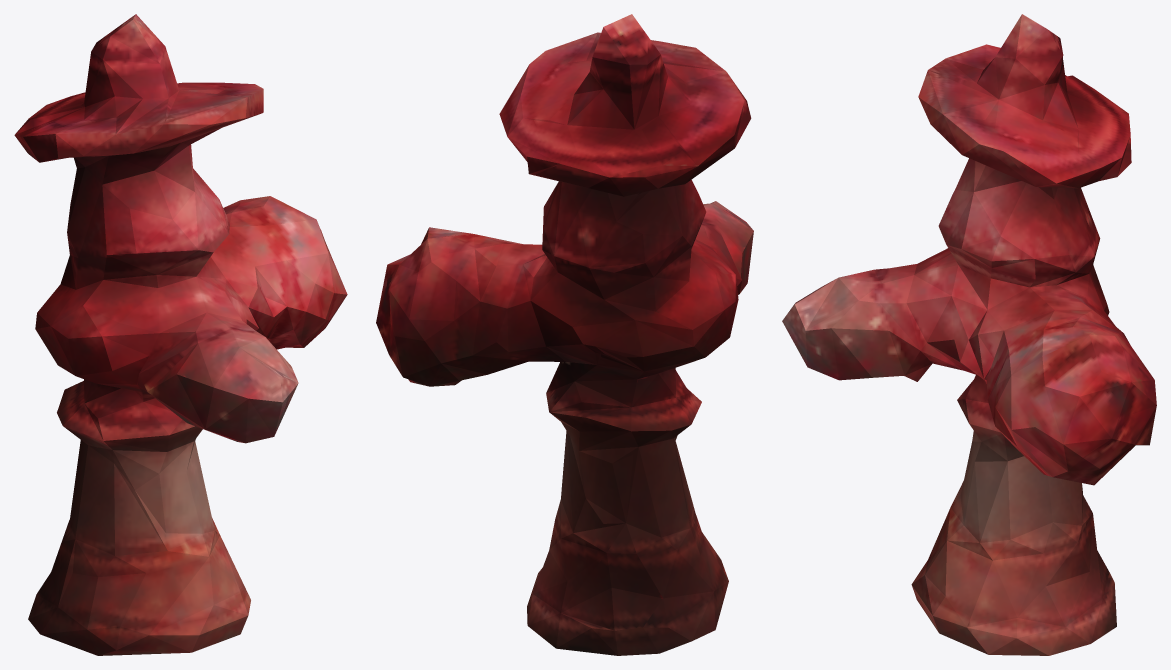
The model's file is hydrant-lod1.obj.
3 renders of one model, left to right at view 1: azimuth 30°, elevation 25°; view 2: azimuth 150°, elevation 25°; view 3: azimuth 270°, elevation 25°, orthographic.
Bounding box in the file's own units: 0.4531 × 0.802 × 0.4503.
1 material, 1 textured.
